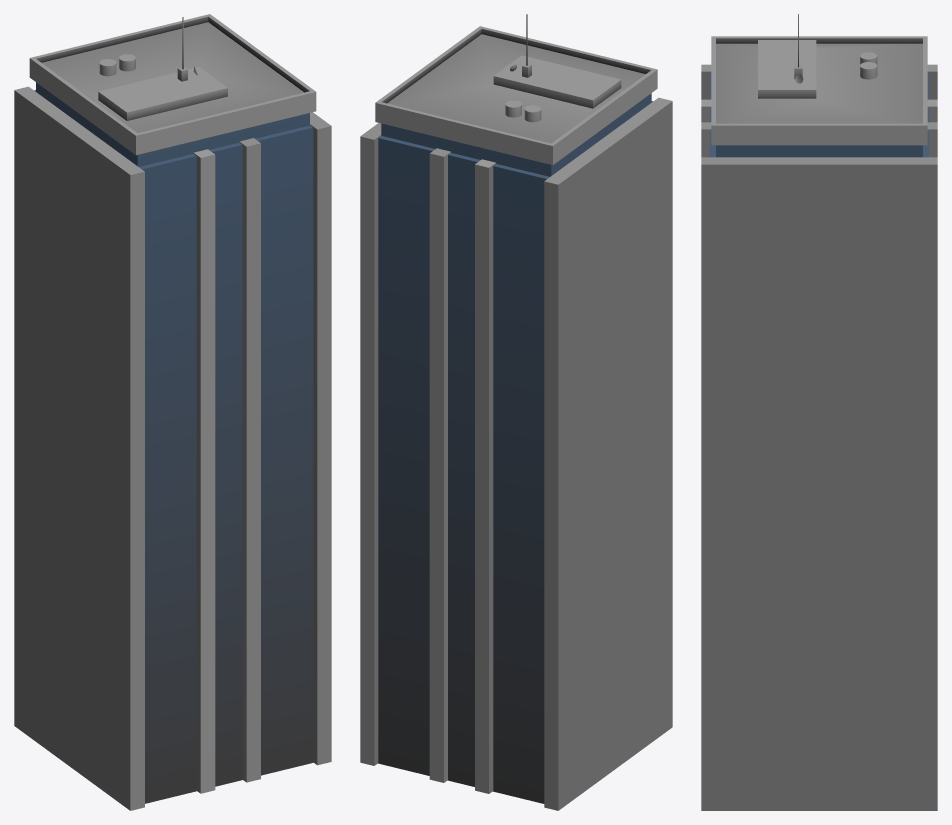
Rendered from Industrial_TraditionalSkyscraper_alt06.glb.
3 renders of one model, left to right at view 1: azimuth 30°, elevation 25°; view 2: azimuth 150°, elevation 25°; view 3: azimuth 270°, elevation 25°, orthographic. The views are drawn at different scales.
Visible parts, largest first — view 1: base.051, windowRefl.034; view 2: base.051, windowRefl.034; view 3: base.051, windowRefl.034.
Boxes of the visible parts, x1,y1,x2,y2 form: base.051: (14,14,331,810); windowRefl.034: (34,82,313,803); base.051: (360,14,672,810); windowRefl.034: (378,93,652,803); base.051: (701,14,937,810); windowRefl.034: (709,73,929,157).
Bounding box in the file's own units: 21 × 73.26 × 21.
